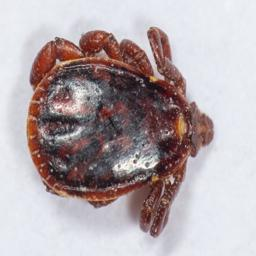Rhipicephalus sanguineus: (27, 26, 215, 237)
